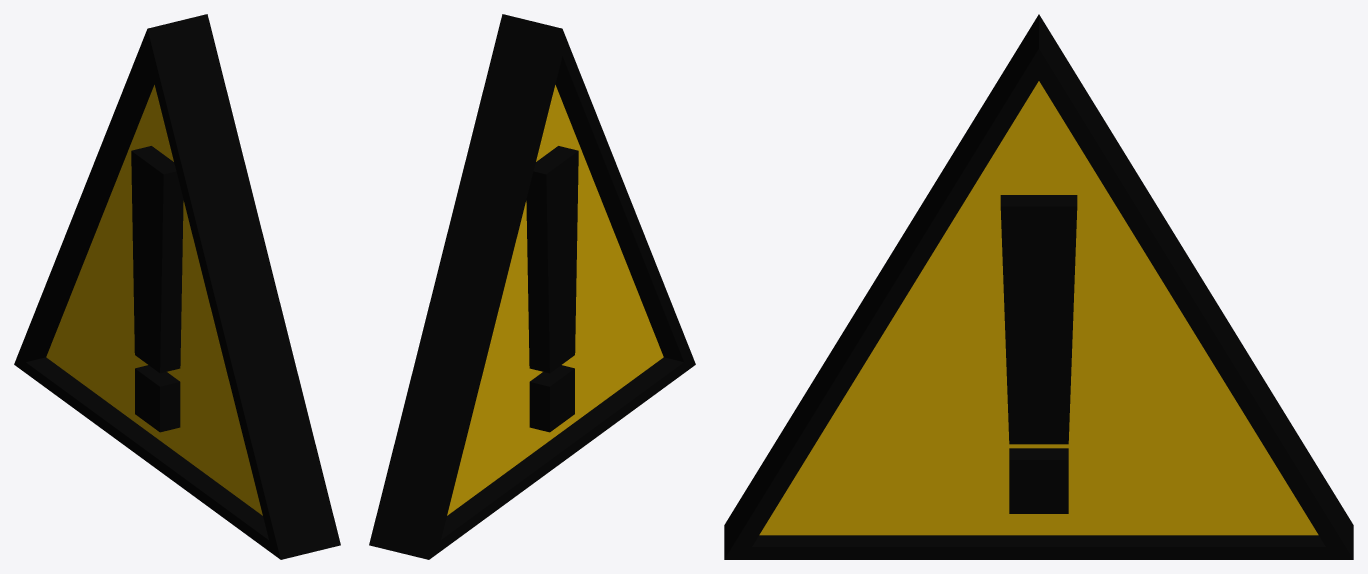
The model's file is WARNING_PASSIVE.fbx.
3 views of the same model, side by side, from view 1: azimuth 30°, elevation 25°; view 2: azimuth 150°, elevation 25°; view 3: azimuth 270°, elevation 25° (orthographic). The views are drawn at different scales.
Visible parts, largest first — view 1: Icon_Warning2; view 2: Icon_Warning2; view 3: Icon_Warning2.
Boxes of the visible parts, x1,y1,x2,y2 form: Icon_Warning2: [14, 14, 340, 559]; Icon_Warning2: [369, 14, 695, 559]; Icon_Warning2: [724, 14, 1353, 559].
Bounding box in the file's own units: 1 × 6.9 × 7.7.
